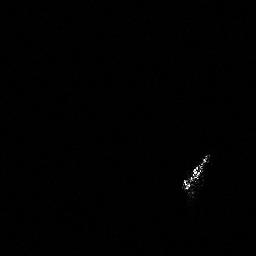ship: (178, 149, 211, 202)
